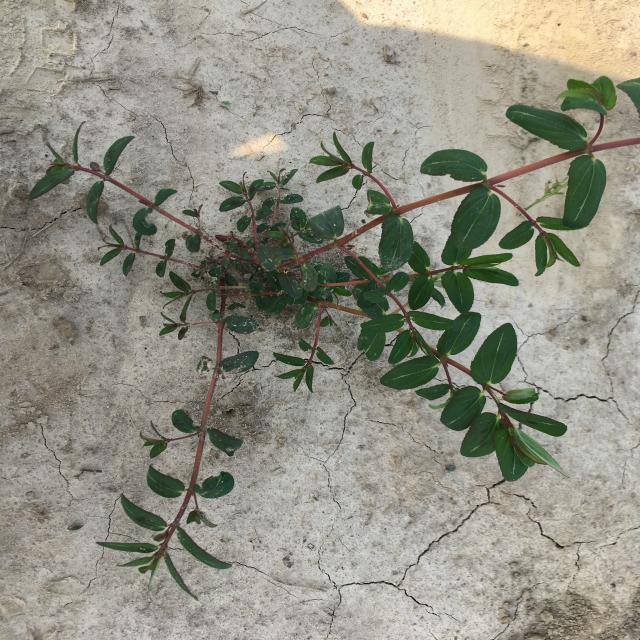SpottedSpurge: (27, 76, 639, 600)
